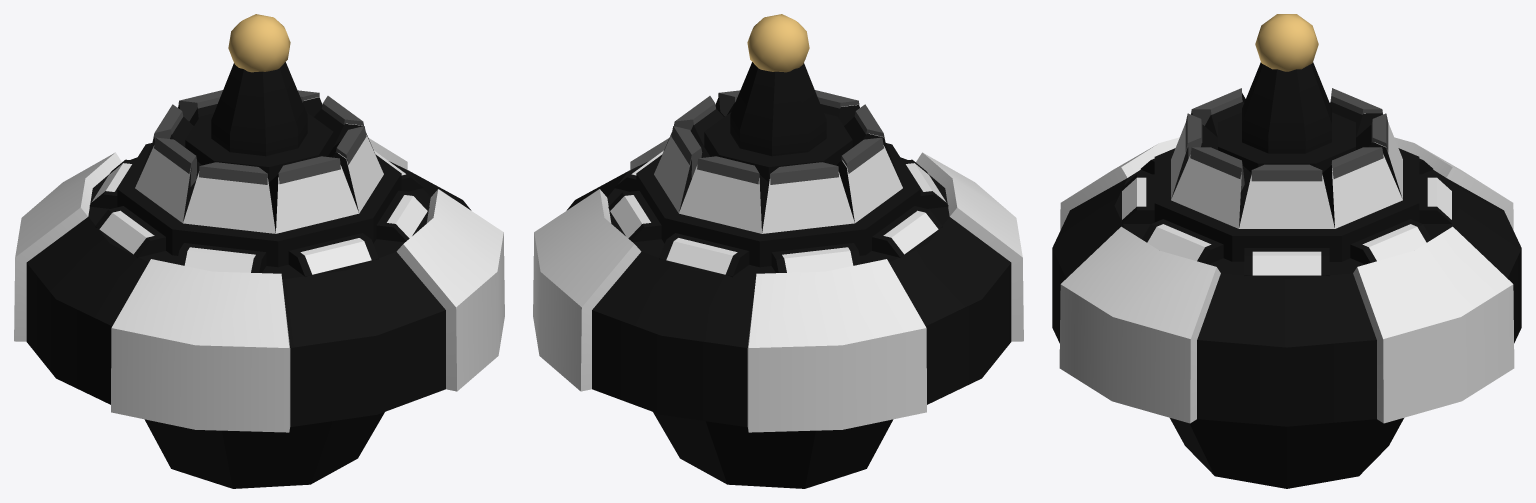
The model's file is 01_turret_pd.glb.
3 views of the same model, side by side, from view 1: azimuth 30°, elevation 25°; view 2: azimuth 150°, elevation 25°; view 3: azimuth 270°, elevation 25° (orthographic).
Parts seen in each view (by area): view 1: 01_structure_pd_old, 01_structure_pd; view 2: 01_structure_pd_old, 01_structure_pd; view 3: 01_structure_pd_old, 01_structure_pd.
Boxes of the visible parts, bbox=[...] form: 01_structure_pd_old: bbox=[14, 14, 504, 488]; 01_structure_pd: bbox=[89, 90, 429, 276]; 01_structure_pd_old: bbox=[533, 14, 1023, 488]; 01_structure_pd: bbox=[608, 90, 948, 277]; 01_structure_pd_old: bbox=[1052, 14, 1521, 488]; 01_structure_pd: bbox=[1122, 88, 1451, 276].
Size of the model in its own units: 1 by 1.01 by 1.
